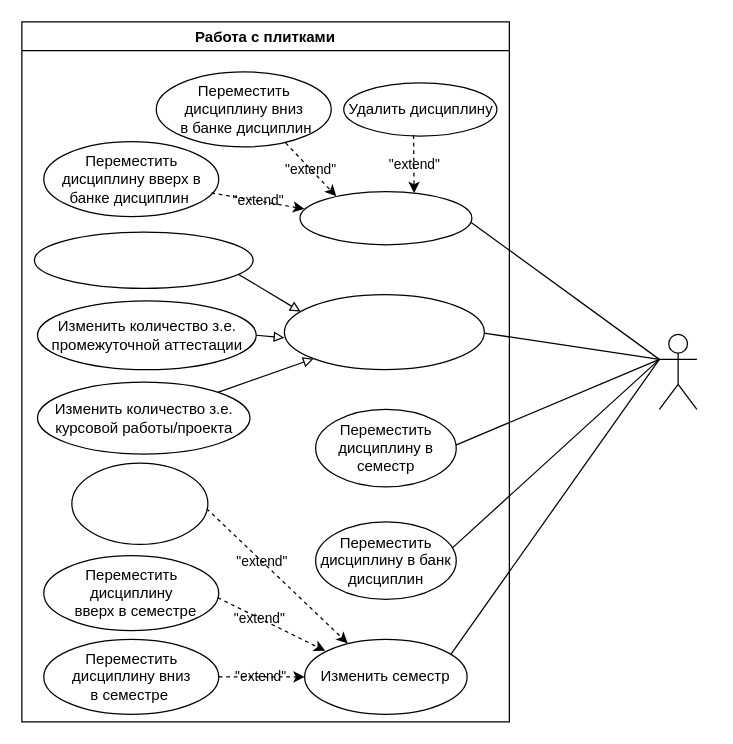
The diagram is 733 pixels wide and 744 high, and some of its shapes have lost their labels. The shapes that lost their labels are listed below. From the top down, each one's centre as x and y in pixels, then its label:
point 385,217: Изменить банк дисциплин
point 143,259: Изменить количество з.е. теоретического обучения
point 383,331: Изменить количество з.е. для плитки
point 677,371: Методист
point 139,503: Удалить дисциплину из семестра
